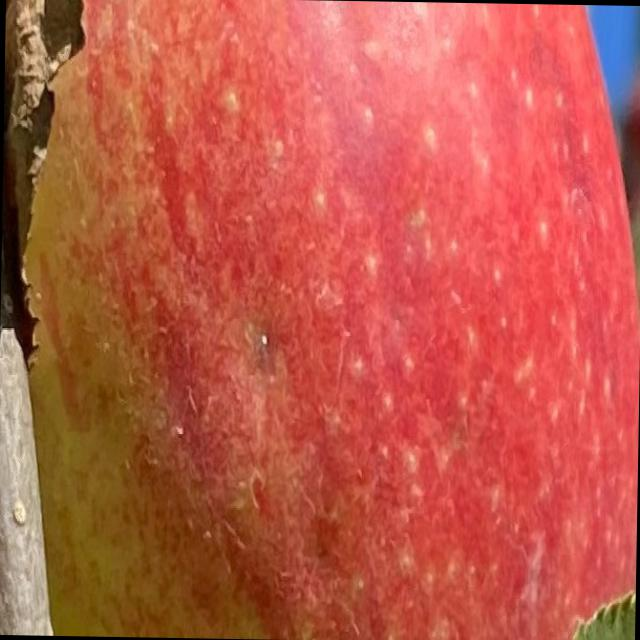Apples: (16, 0, 639, 639)
